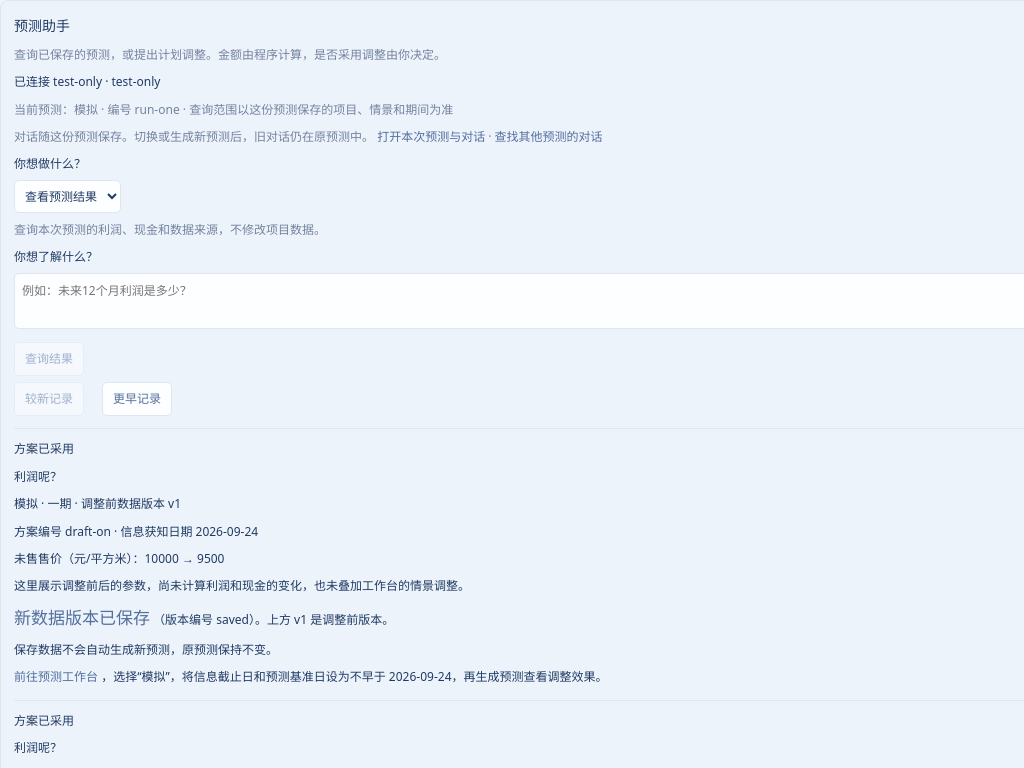
Scenario: can reload a pending version after paging without accepting the old page response
Click the button "更早记录": [137, 399] box [102,382,172,416]
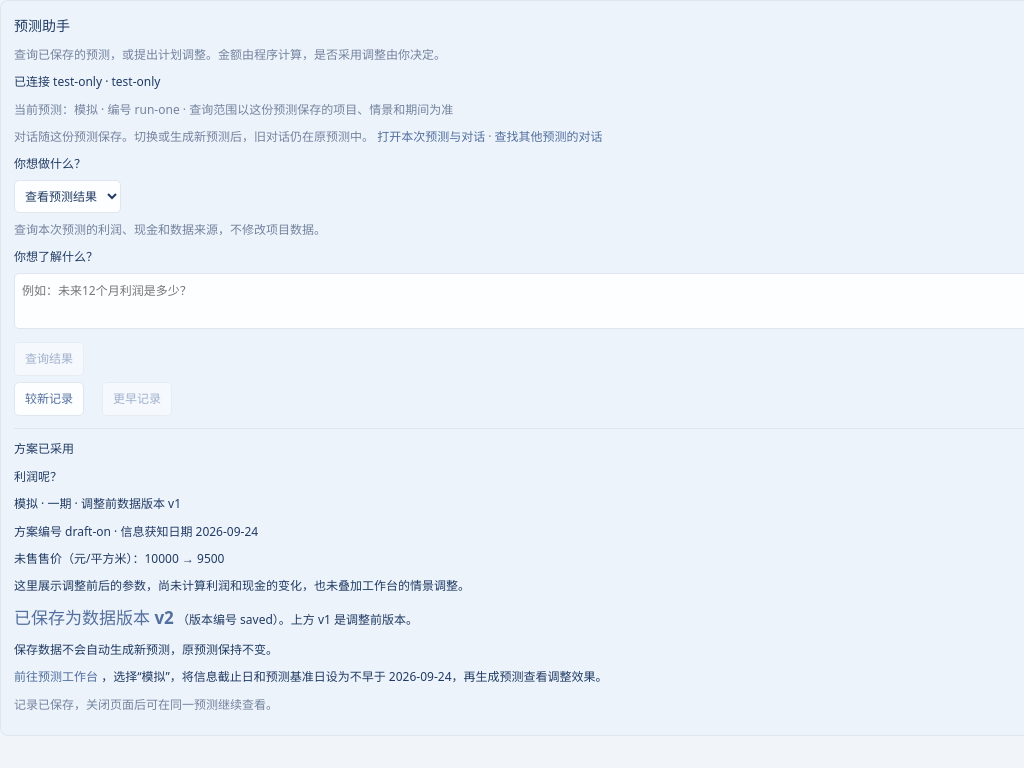
Result: the text "已保存为数据版本 v2" is shown at [14,606,174,629]
